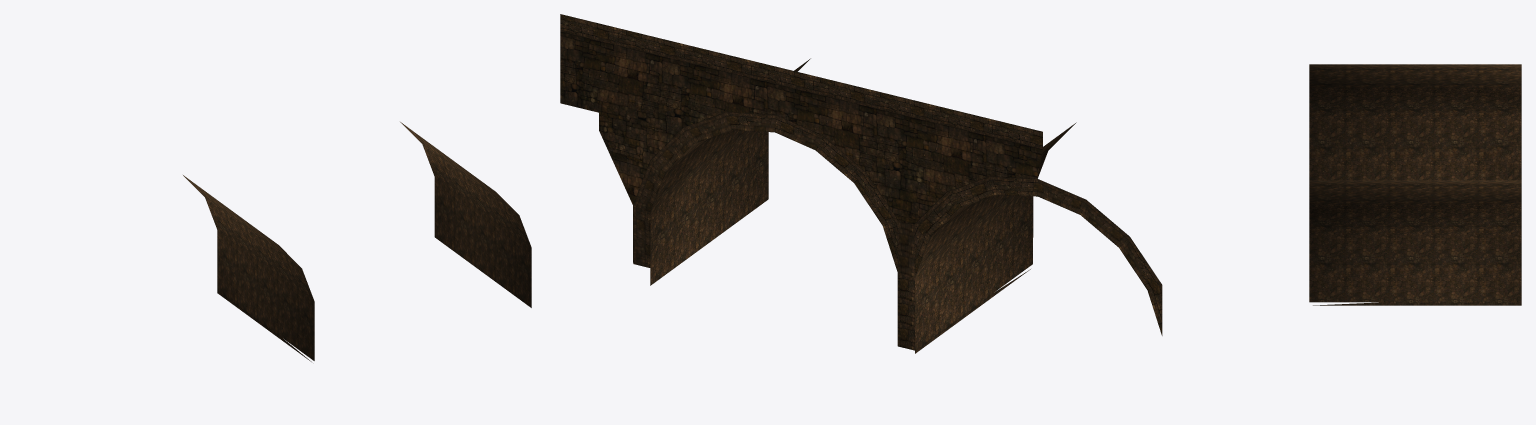
File: M10_Z01_03_Tunnels.glb
3 renders of one model, left to right at view 1: azimuth 30°, elevation 25°; view 2: azimuth 150°, elevation 25°; view 3: azimuth 270°, elevation 25°, orthographic. The views are drawn at different scales.
Visible parts, largest first — view 1: M10_Z01_03_TUNNELS; view 2: M10_Z01_03_TUNNELS; view 3: M10_Z01_03_TUNNELS.
Boxes of the visible parts, x1,y1,x2,y2 form: M10_Z01_03_TUNNELS: (183,122,531,361); M10_Z01_03_TUNNELS: (560,14,1162,353); M10_Z01_03_TUNNELS: (1309,64,1521,305).
Bounding box in the file's own units: 35.28 × 14.2 × 12.
3 materials, 3 textured.
